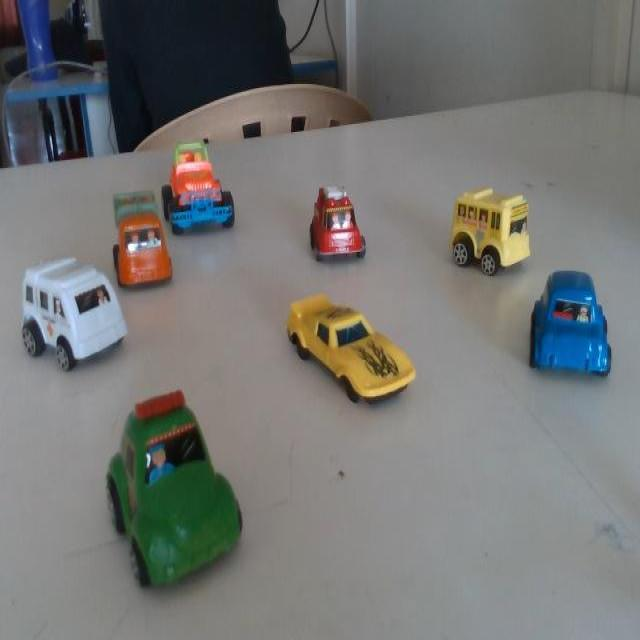car: (89, 394, 241, 576), (12, 238, 136, 392), (280, 286, 416, 410), (527, 268, 615, 383), (441, 186, 526, 284), (166, 132, 244, 231), (297, 174, 367, 274), (110, 181, 173, 291)
